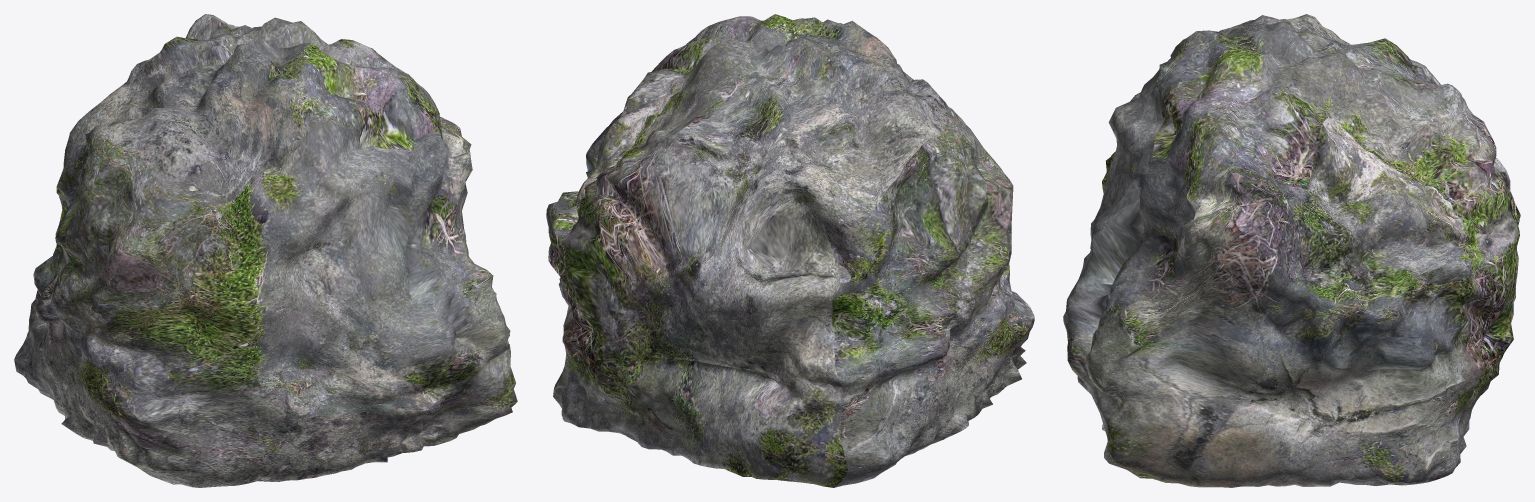
File: stone_5.fbx
3 views of the same model, side by side, from view 1: azimuth 30°, elevation 25°; view 2: azimuth 150°, elevation 25°; view 3: azimuth 270°, elevation 25° (orthographic). The views are drawn at different scales.
Visible parts, largest first — view 1: cube; view 2: cube; view 3: cube.
Boxes of the visible parts, x1,y1,x2,y2 form: cube: [14, 14, 517, 487]; cube: [546, 14, 1034, 487]; cube: [1063, 14, 1520, 487].
Size of the model in its own units: 247 by 222 by 241.
